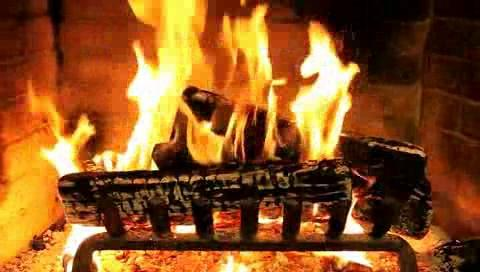fire: (108, 5, 362, 170)
